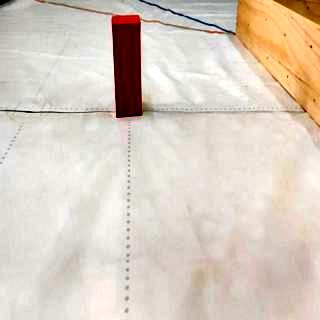redbox: (111, 13, 142, 119)
